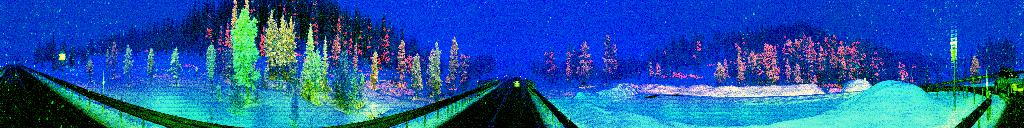pole: (102, 68, 106, 95), (986, 69, 988, 102)
